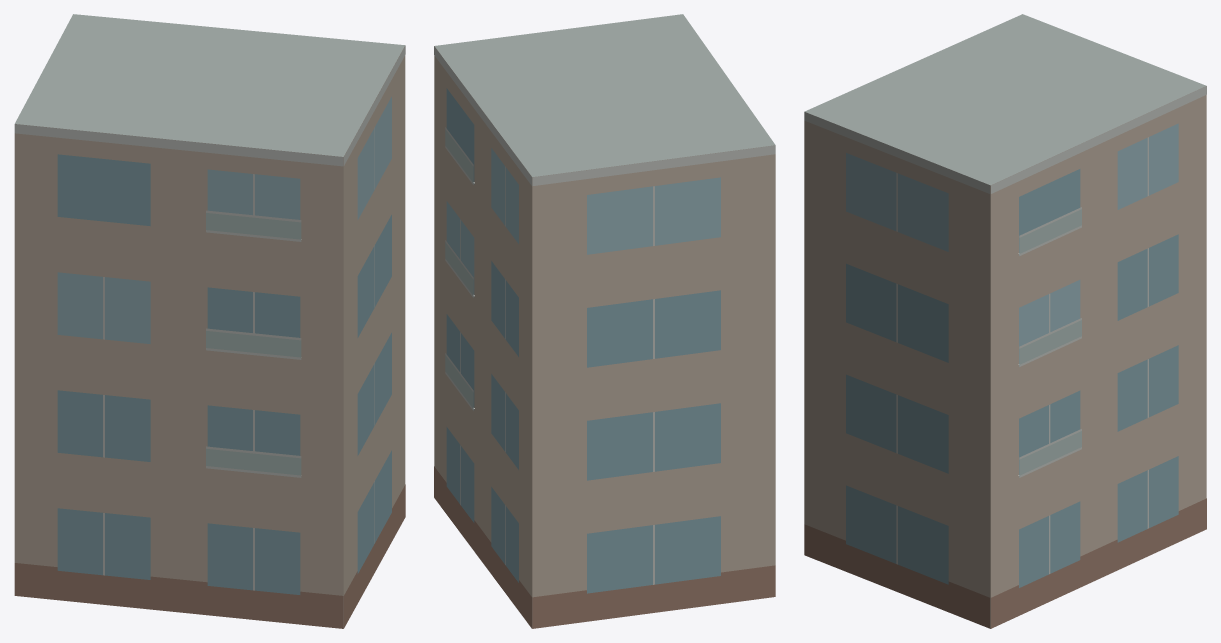
The model's file is survey-upis-32992804.glb.
The picture shows the model from 3 angles, left to right: view 1: azimuth 30°, elevation 25°; view 2: azimuth 150°, elevation 25°; view 3: azimuth 270°, elevation 25°; orthographic projection. The views are drawn at different scales.
Parts seen in each view (by area): view 1: survey-upis-32992804.tmp; view 2: survey-upis-32992804.tmp; view 3: survey-upis-32992804.tmp.
Boxes of the visible parts, box(x1,y1,x2,y2) form: survey-upis-32992804.tmp: box(14, 14, 405, 628); survey-upis-32992804.tmp: box(434, 14, 775, 628); survey-upis-32992804.tmp: box(804, 14, 1206, 628).
Bounding box in the file's own units: 10.08 × 12.15 × 10.
